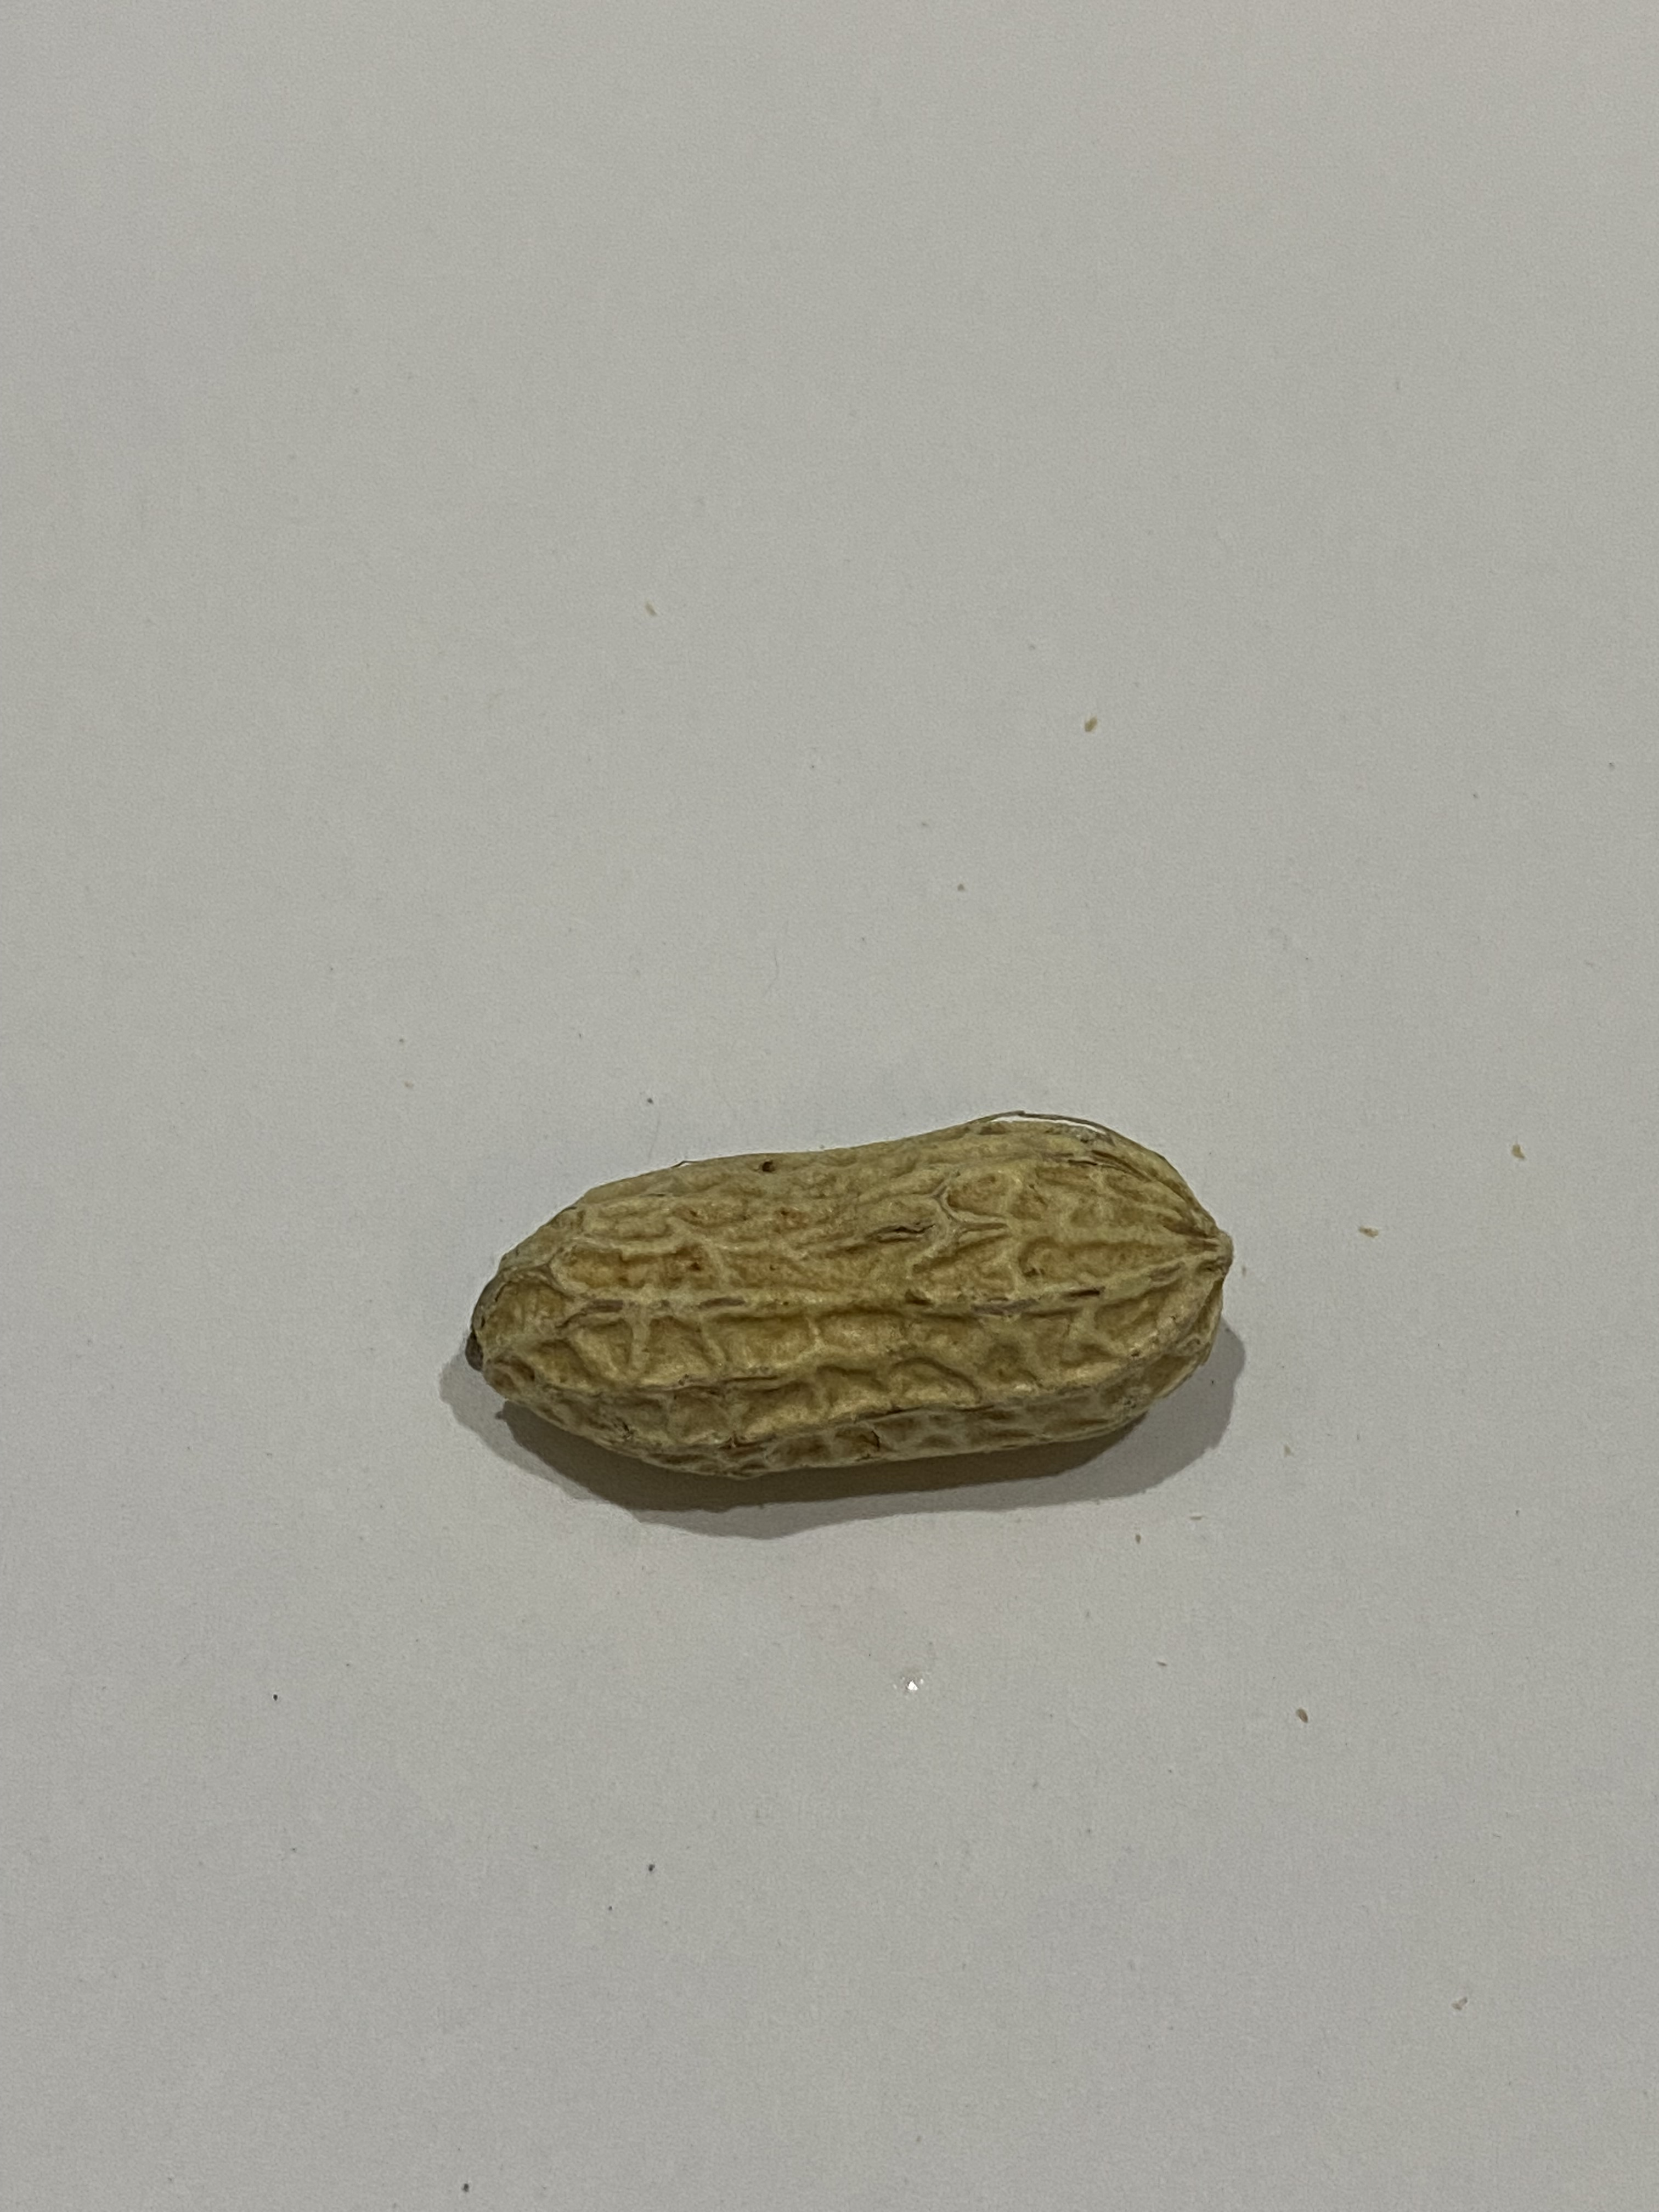kacang2: (382, 1003, 1352, 1503)
